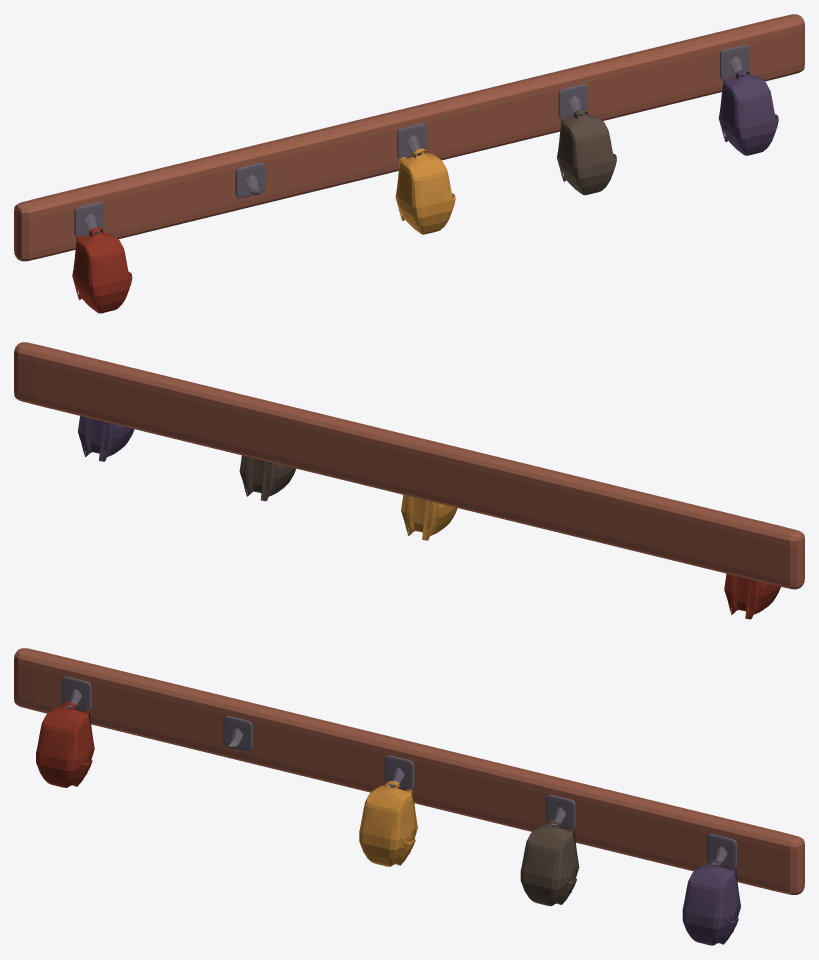
Rendered from askılıkvecanta.fbx.
3 renders of one model, top to bottom at view 1: azimuth 30°, elevation 25°; view 2: azimuth 150°, elevation 25°; view 3: azimuth 330°, elevation 25°, orthographic.
Visible parts, largest first — view 1: askılık, tutacak, canta2, canta1, canta4, canta3; view 2: askılık, canta1, canta2, canta3, canta4; view 3: askılık, tutacak, canta3, canta1, canta2, canta4.
Boxes of the visible parts, x1,y1,x2,y2 form: askılık: [14, 14, 804, 261]; tutacak: [74, 44, 749, 237]; canta2: [395, 148, 455, 234]; canta1: [72, 227, 132, 313]; canta4: [718, 69, 778, 155]; canta3: [557, 109, 616, 195]; askılık: [14, 342, 804, 589]; canta1: [724, 573, 780, 619]; canta2: [401, 495, 457, 540]; canta3: [239, 455, 295, 501]; canta4: [78, 416, 134, 461]; askılık: [14, 648, 804, 894]; tutacak: [62, 676, 736, 868]; canta3: [520, 820, 579, 906]; canta1: [36, 702, 94, 787]; canta2: [359, 781, 417, 866]; canta4: [682, 859, 740, 945].
Size of the model in its own units: 753 by 95.28 by 59.5.
